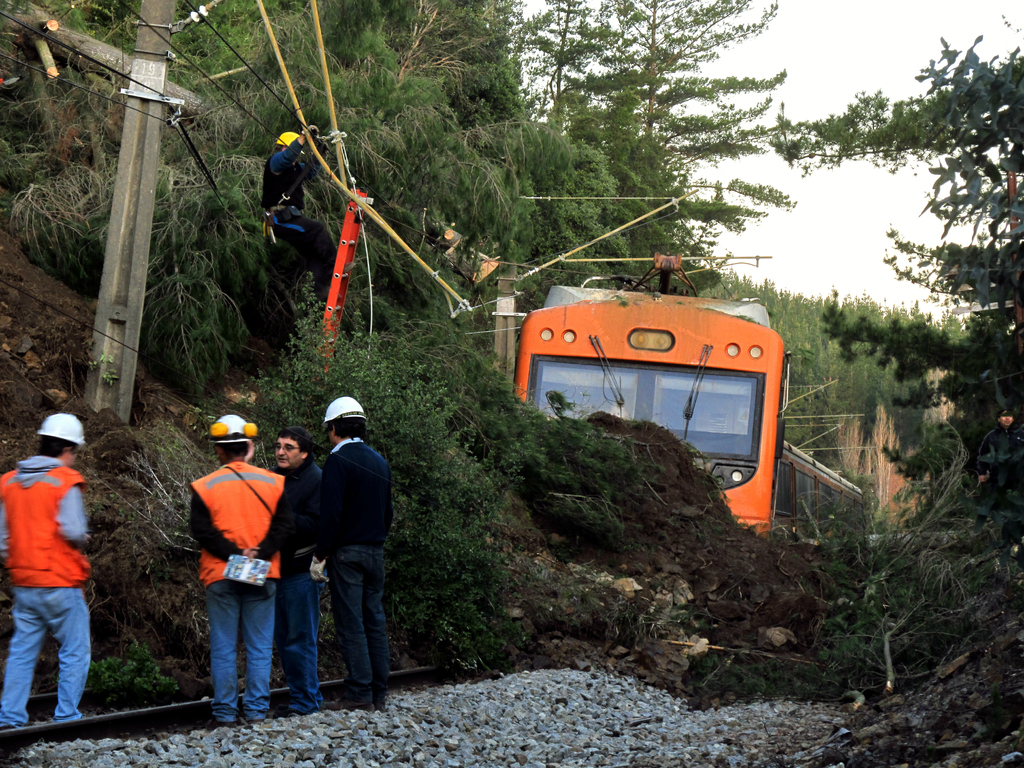Tree: (248, 275, 526, 664), (890, 39, 1023, 547), (177, 0, 538, 179), (583, 0, 800, 293), (725, 272, 968, 518), (366, 0, 523, 282), (499, 0, 630, 285), (294, 34, 451, 204), (152, 166, 249, 399)
